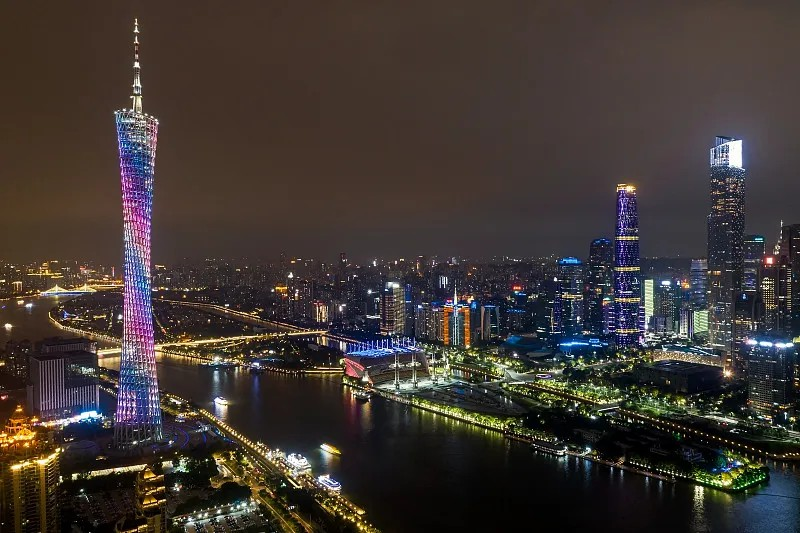Canton: (111, 20, 162, 448)
